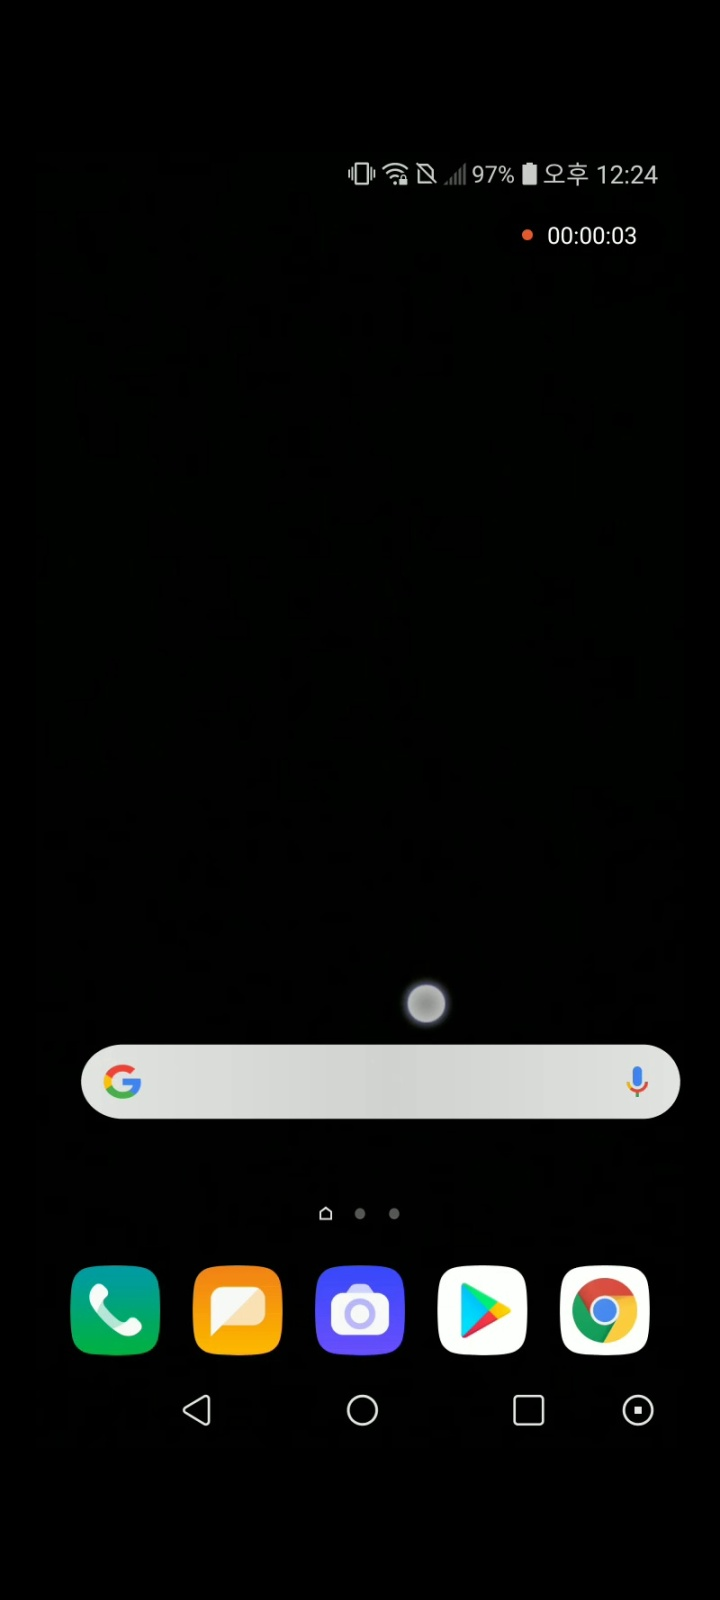Cursor: (403, 982, 448, 1027)
